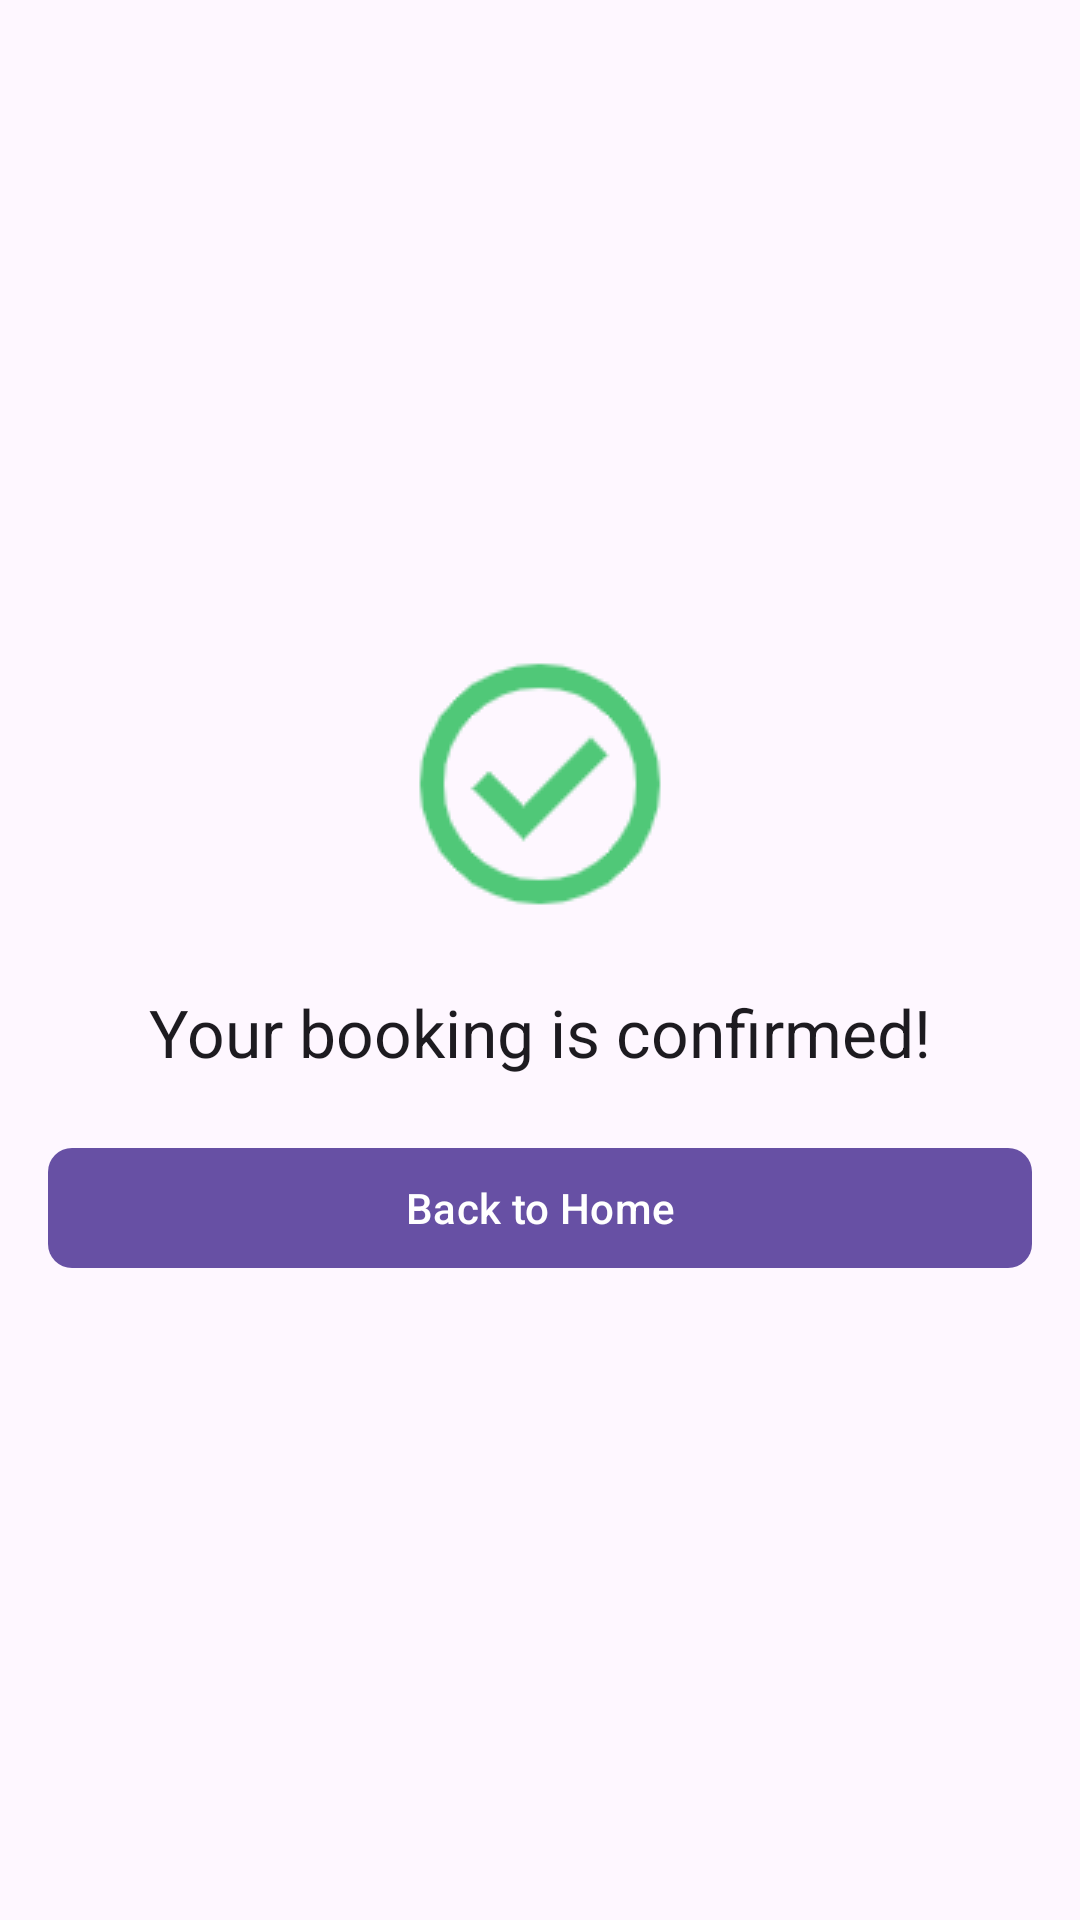

Named icons in this screenshot (1080 × 1920) and their bounding boxes, [x1,y1,x2,y2]:
Booking confirmation icon: [419,663,661,905]
